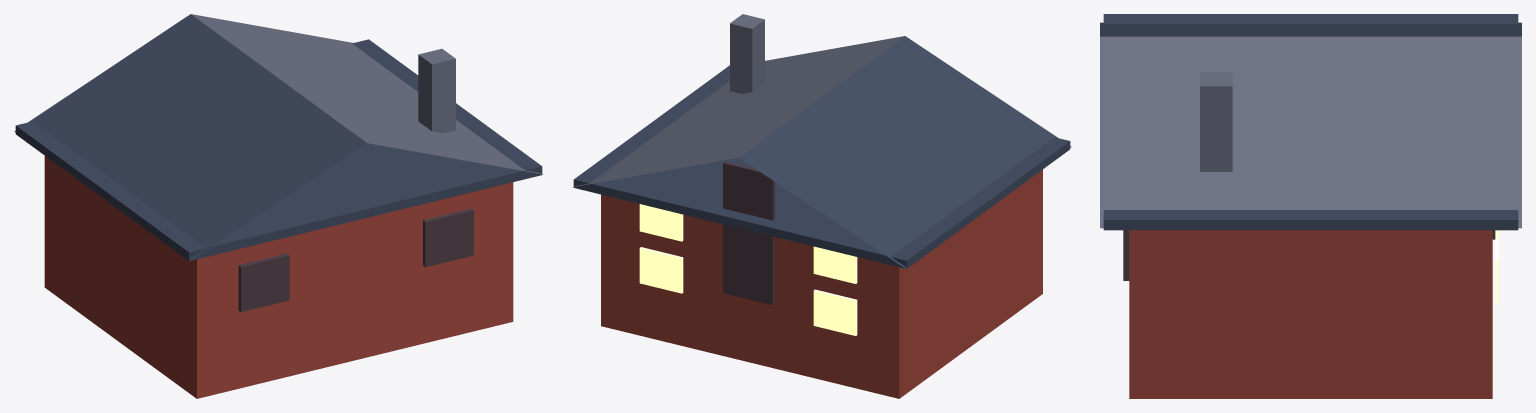
The model's file is house_red.glb.
The picture shows the model from 3 angles, left to right: view 1: azimuth 30°, elevation 25°; view 2: azimuth 150°, elevation 25°; view 3: azimuth 270°, elevation 25°; orthographic projection. The views are drawn at different scales.
Visible parts, largest first — view 1: house_red; view 2: house_red; view 3: house_red.
Boxes of the visible parts, bbox=[...] form: house_red: bbox=[14, 14, 543, 398]; house_red: bbox=[573, 14, 1071, 398]; house_red: bbox=[1100, 14, 1521, 398].
Size of the model in its own units: 6.7 by 4.5 by 5.8.
